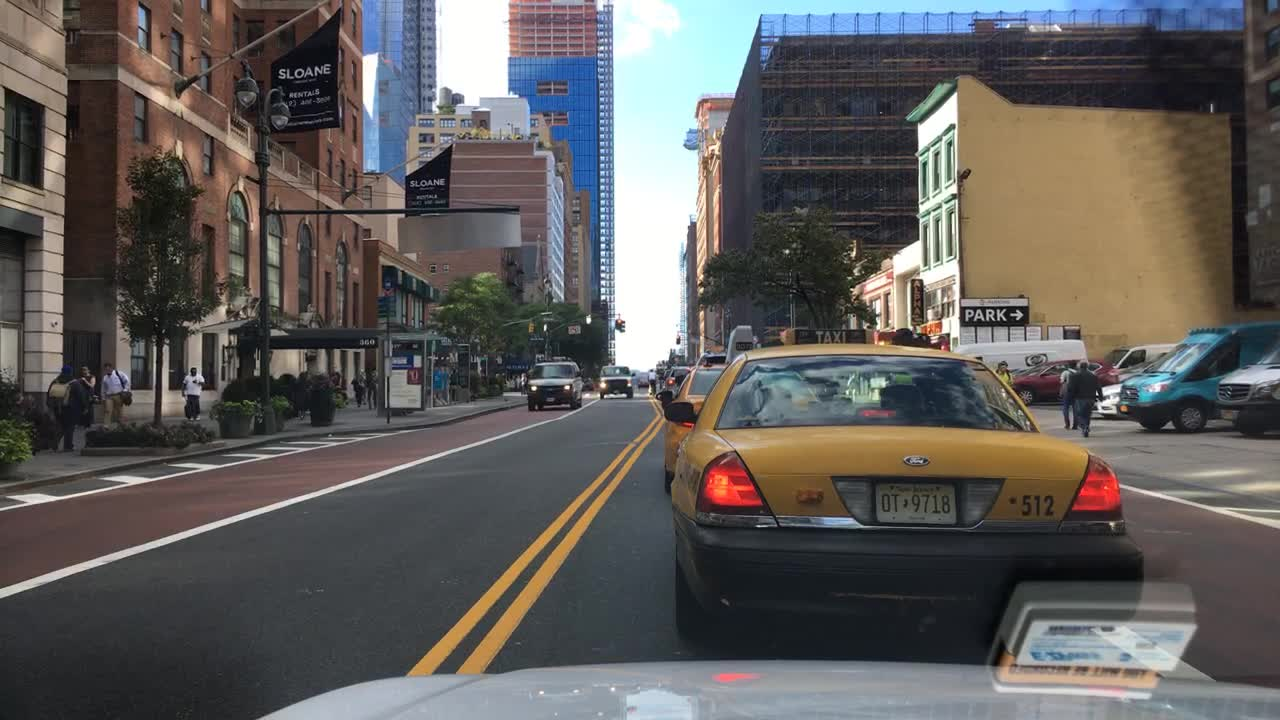car: (660, 322, 1150, 658), (1113, 315, 1278, 438), (651, 322, 761, 487), (946, 341, 1091, 407), (1211, 342, 1278, 443), (1009, 357, 1119, 410), (521, 359, 589, 412), (1091, 370, 1154, 421), (1104, 341, 1183, 379), (594, 363, 636, 399), (655, 363, 677, 388), (583, 370, 598, 396), (653, 366, 670, 388), (636, 374, 651, 388)
person: (35, 361, 86, 456), (97, 359, 138, 440), (1069, 357, 1106, 437), (1056, 357, 1084, 434), (75, 359, 103, 436), (178, 363, 209, 429), (325, 366, 347, 429), (295, 368, 317, 421), (363, 363, 383, 412), (350, 366, 371, 410), (989, 359, 1014, 388)
traffic light: (528, 322, 537, 338)
traffic sign: (397, 214, 525, 252), (956, 294, 1033, 331), (565, 322, 583, 339), (526, 335, 545, 344)
